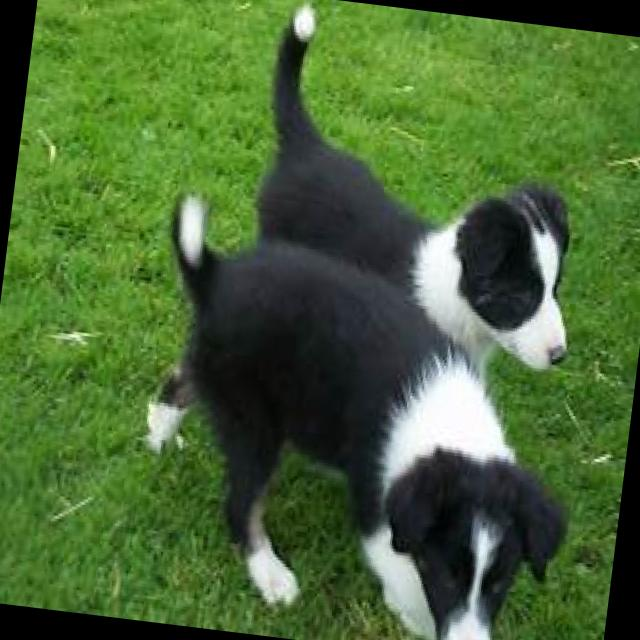dog: (132, 194, 601, 640), (244, 0, 601, 377)
